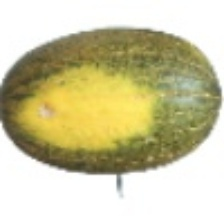honeydew: (25, 18, 166, 184)
